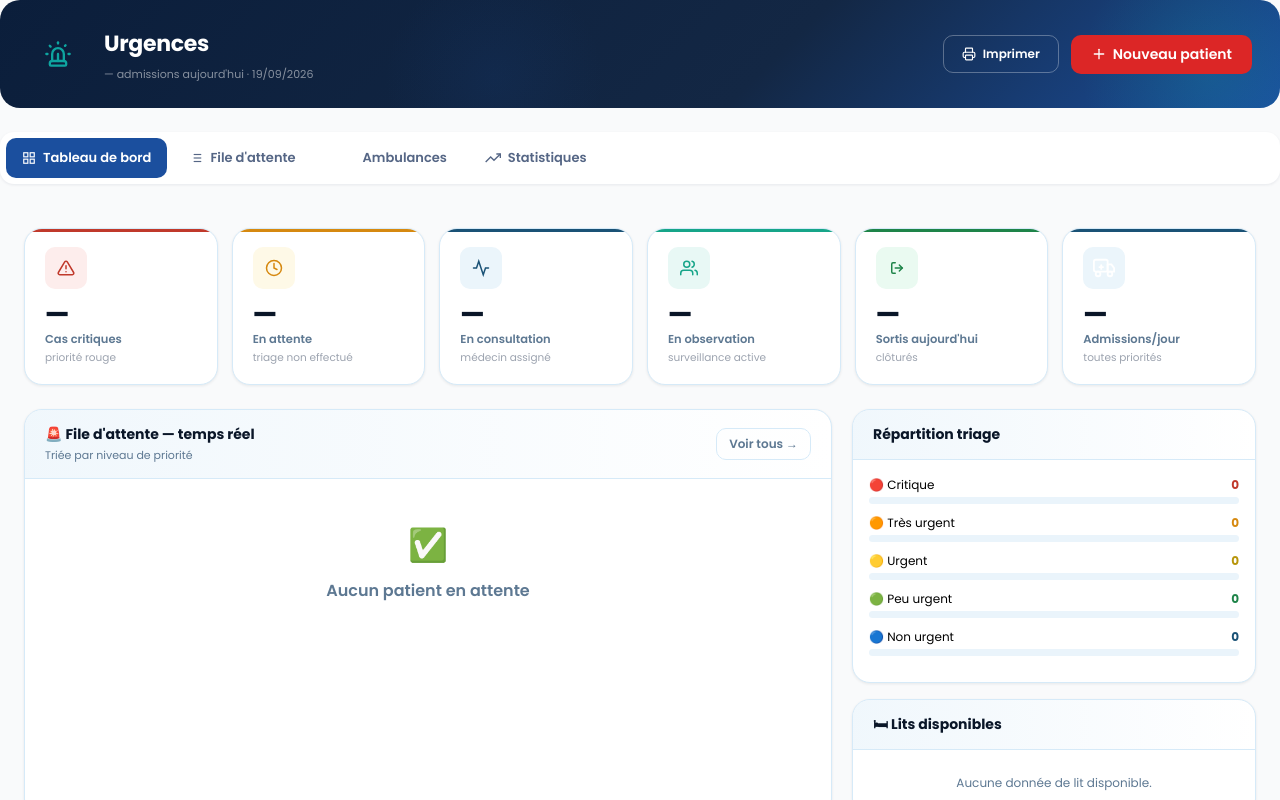
sélectionner un patient existant recopie immédiatement ses vrais champs dans le formulaire, jamais un texte sans rapport
Step 1. Click the button "Nouveau patient" → x=1161, y=54, box top-left (1071, 34), bottom-right (1252, 74)
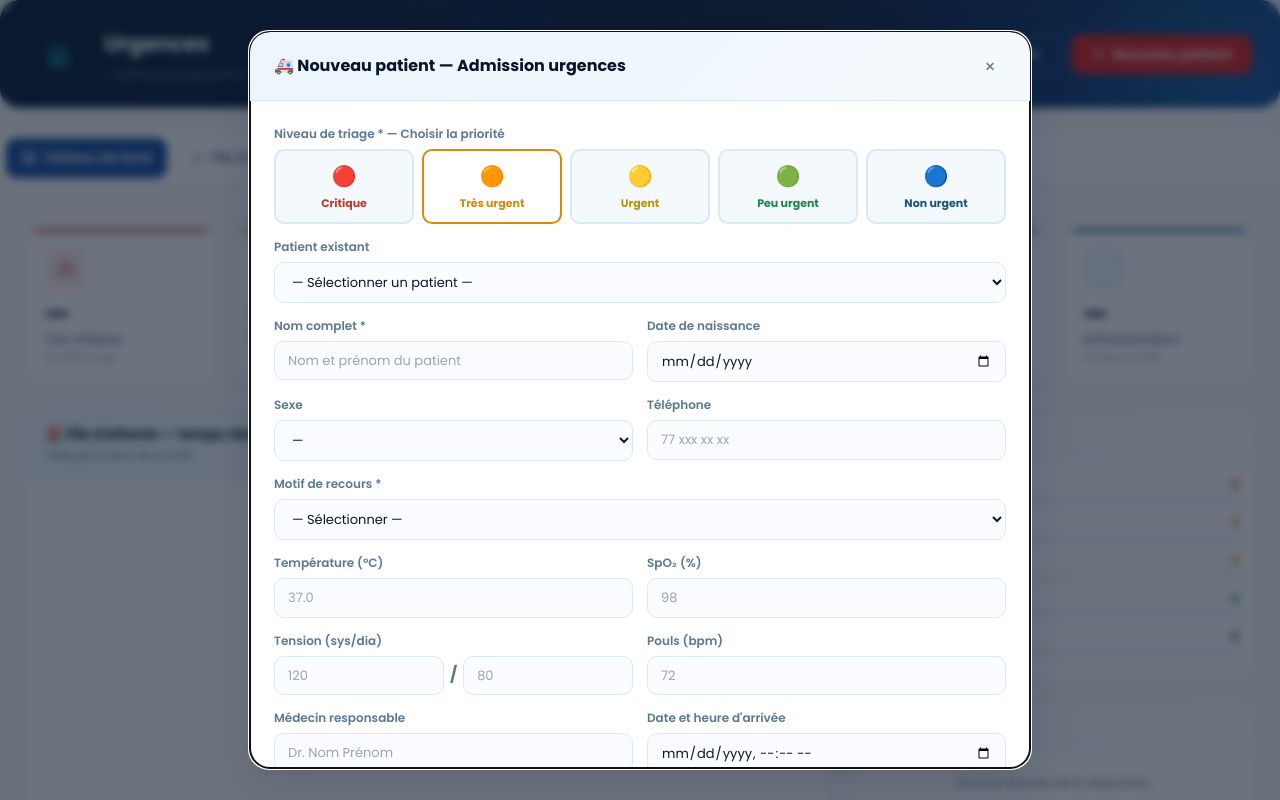
Expected: the dropdown below "Patient existant" is shown
Step 2. Select "Sylvie Nguema — DOS-0042" in the dropdown below "Patient existant" → x=640, y=282, box top-left (274, 262), bottom-right (1006, 302)
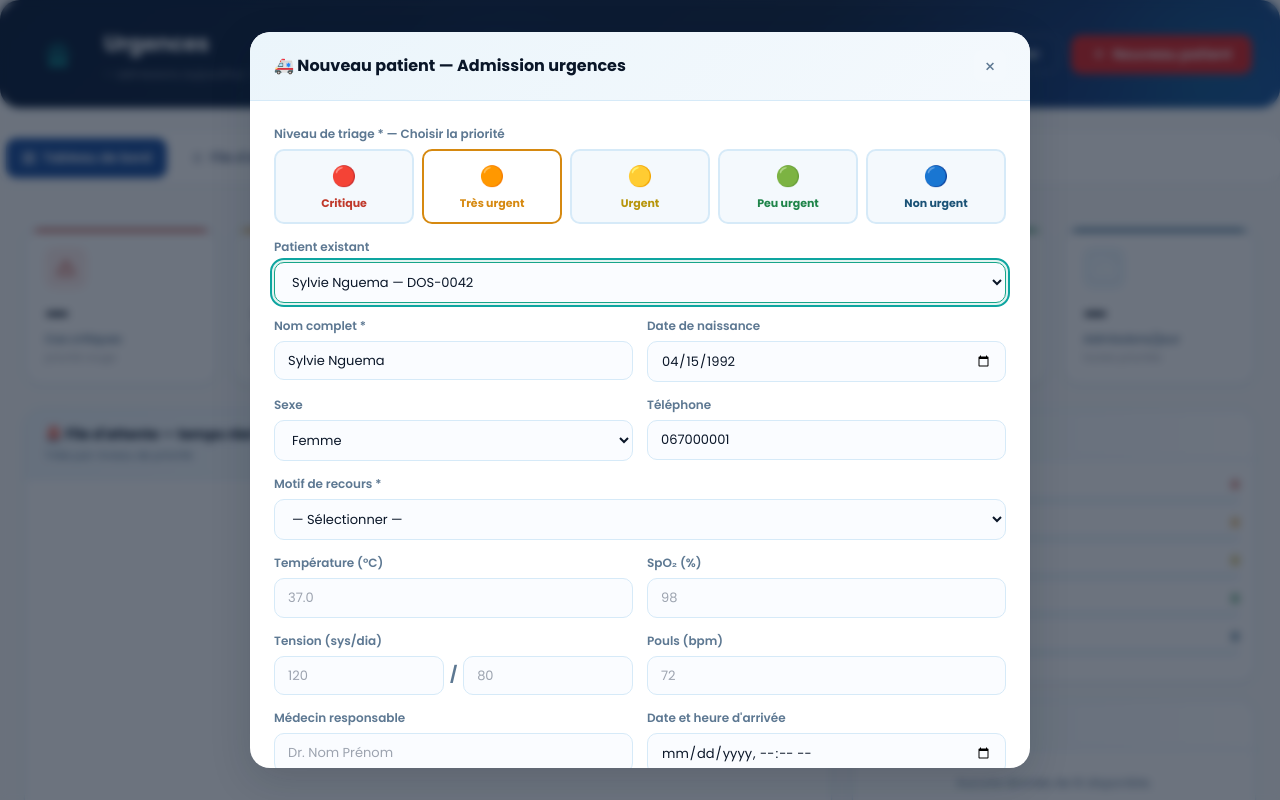
Expected: the field with placeholder "Nom et prénom du patient" below "Nom complet *" holds "Sylvie Nguema", top-left (274, 340), bottom-right (633, 380)
Expected: the date field holds "1992-04-15", top-left (647, 340), bottom-right (1006, 382)
Expected: the dropdown below "Sexe" shows "Femme", top-left (274, 420), bottom-right (633, 461)
